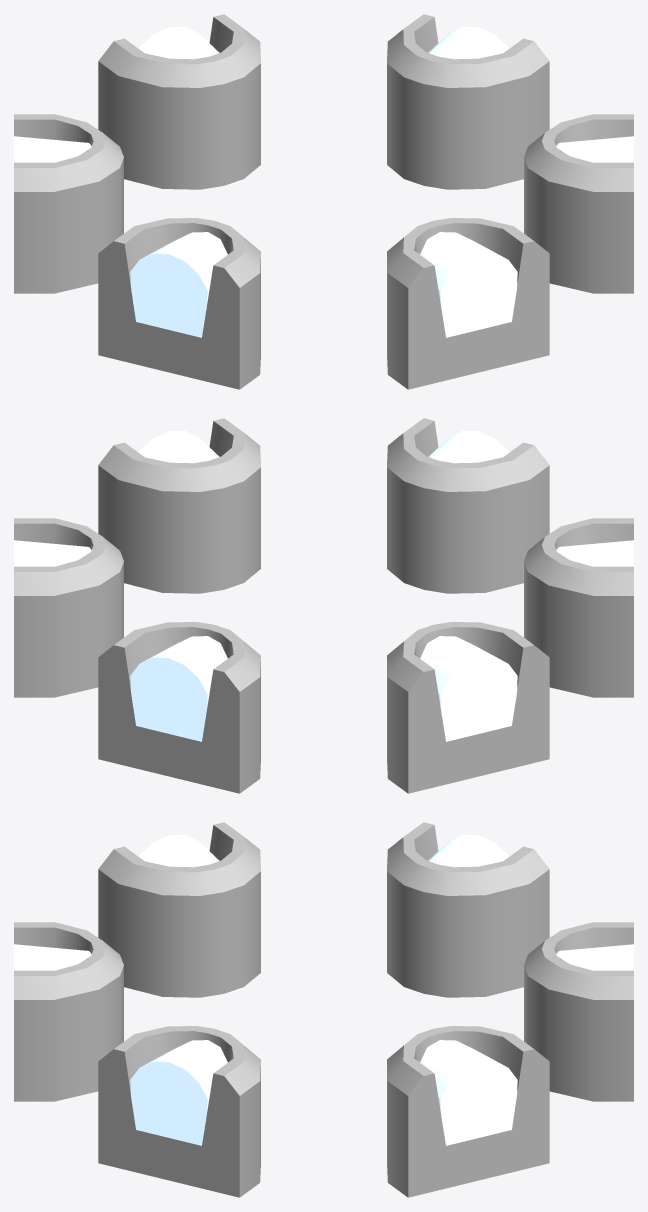
The model's file is SM_Module_PowerSocket_Hex1.fbx.
The picture shows the model from 3 angles, top to bottom: view 1: azimuth 30°, elevation 25°; view 2: azimuth 150°, elevation 25°; view 3: azimuth 270°, elevation 25°; orthographic projection.
Parts seen in each view (by area): view 1: SM_Module_PowerSocket; view 2: SM_Module_PowerSocket; view 3: SM_Module_PowerSocket.
Boxes of the visible parts, x1,y1,x2,y2 form: SM_Module_PowerSocket: (14, 14, 633, 389); SM_Module_PowerSocket: (14, 418, 633, 793); SM_Module_PowerSocket: (14, 822, 633, 1197).
Bounding box in the file's own units: 3.46 × 3.46 × 0.7294.
